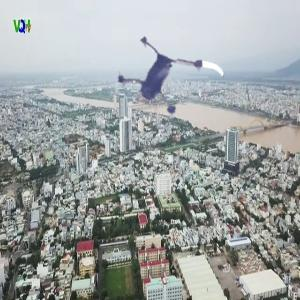drone: (104, 24, 228, 148)
